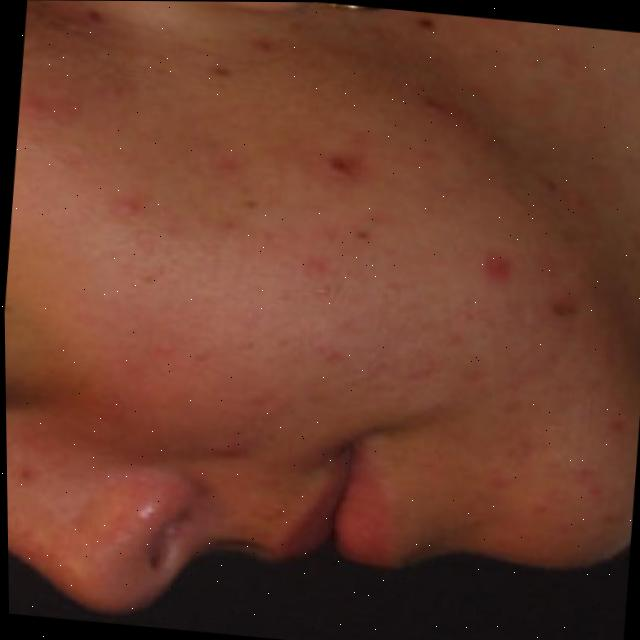Acne: (73, 95, 528, 503)
